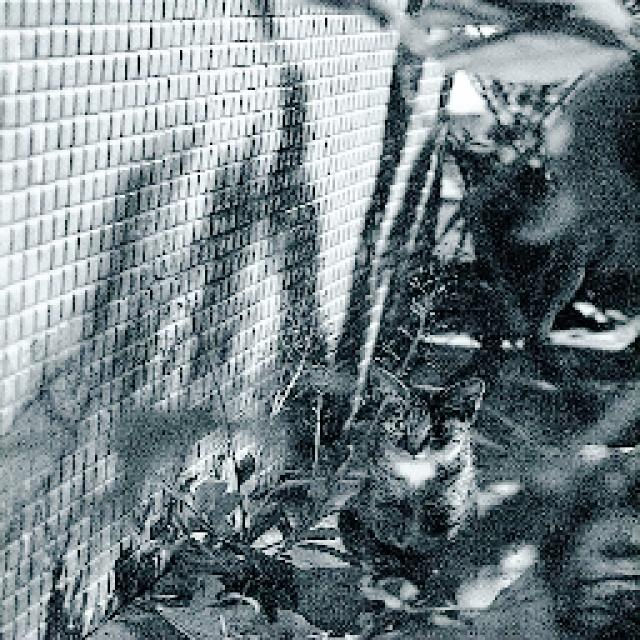cat: (286, 318, 543, 617)
